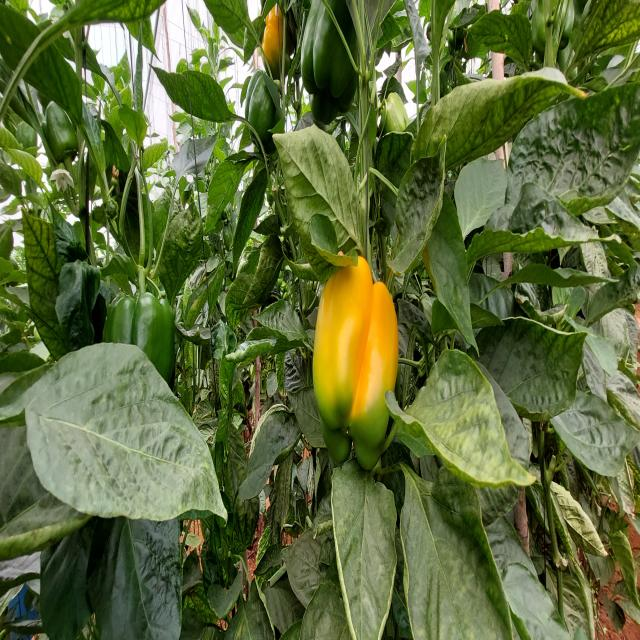Yellow-Ready-to-Harvest: (315, 260, 399, 401), (264, 0, 282, 66)
